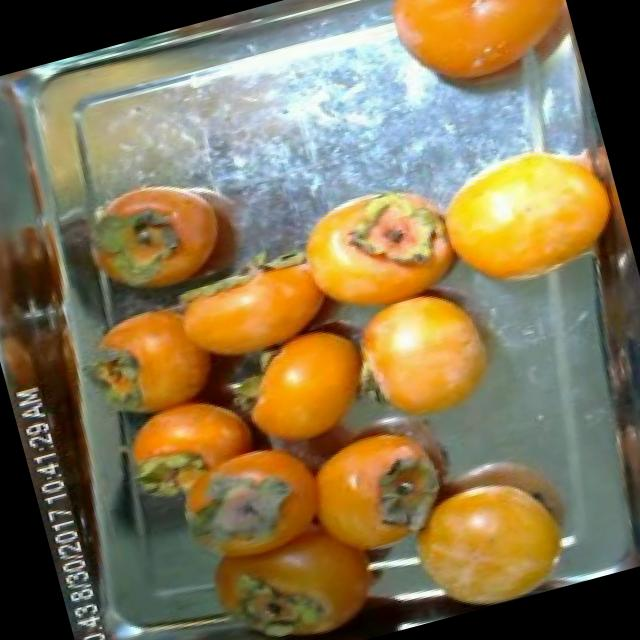Fruit: (368, 410, 606, 626), (409, 116, 638, 320), (328, 260, 528, 448), (63, 148, 269, 312), (362, 0, 585, 122)
